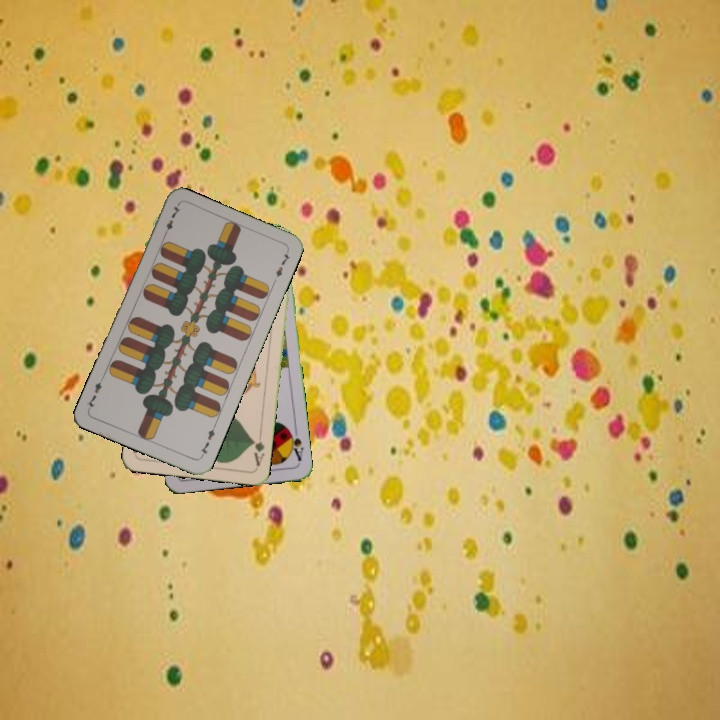E7: (159, 202, 183, 240), (196, 421, 218, 460)
GA: (248, 429, 267, 469)
SA: (284, 424, 306, 463)
